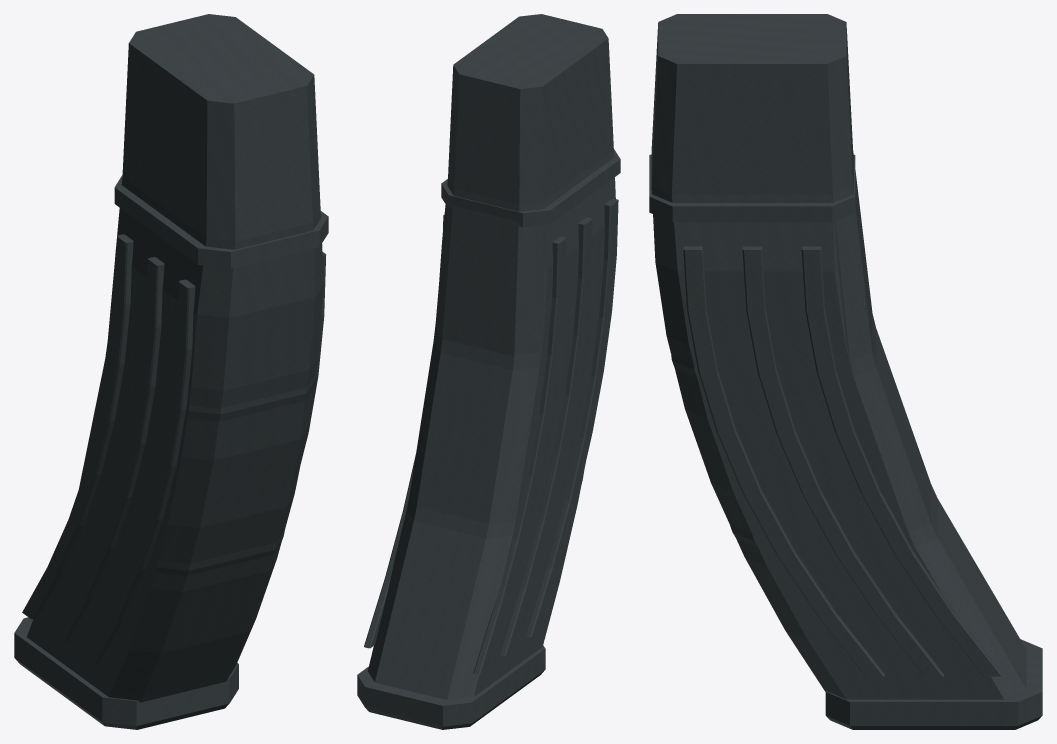
The picture shows the model from 3 angles, left to right: view 1: azimuth 30°, elevation 25°; view 2: azimuth 150°, elevation 25°; view 3: azimuth 270°, elevation 25°; orthographic projection. The views are drawn at different scales.
Parts seen in each view (by area): view 1: ak762_30_curved_shell_0, ak762_30_curved_shell_1; view 2: ak762_30_curved_shell_0, ak762_30_curved_shell_1; view 3: ak762_30_curved_shell_0, ak762_30_curved_shell_1.
Part boxes in pixels (box(x1,y1,x2,y2)): ak762_30_curved_shell_0: box(14, 14, 328, 729); ak762_30_curved_shell_1: box(27, 265, 315, 695); ak762_30_curved_shell_0: box(357, 14, 620, 729); ak762_30_curved_shell_1: box(368, 179, 598, 699); ak762_30_curved_shell_0: box(649, 14, 1042, 729); ak762_30_curved_shell_1: box(671, 150, 1026, 699).
Bounding box in the file's own units: 0.07 × 0.333 × 0.1795.
Materials: 1 (1 with a texture image).
